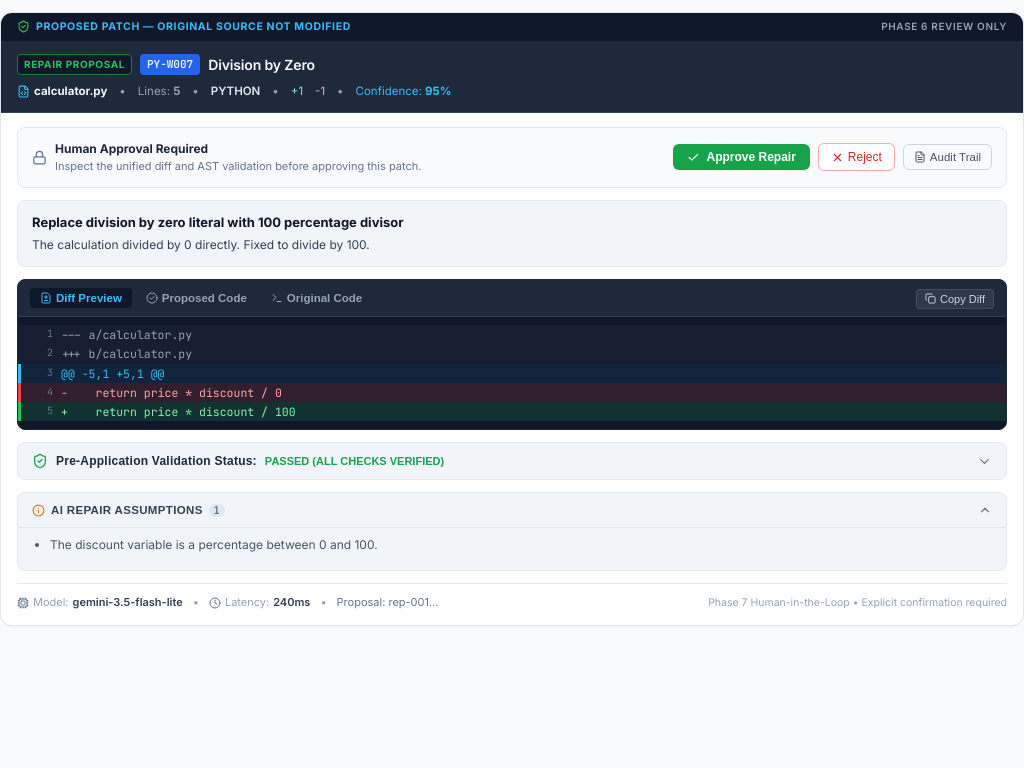
Test: Phase 7 Human Approval & Controlled Patch Application Engine › rejects repair proposal and displays rejected status
This screenshot has width=1024, height=768.
Click the button with test id "reject-repair-btn": click(856, 157) [818, 143, 895, 171]
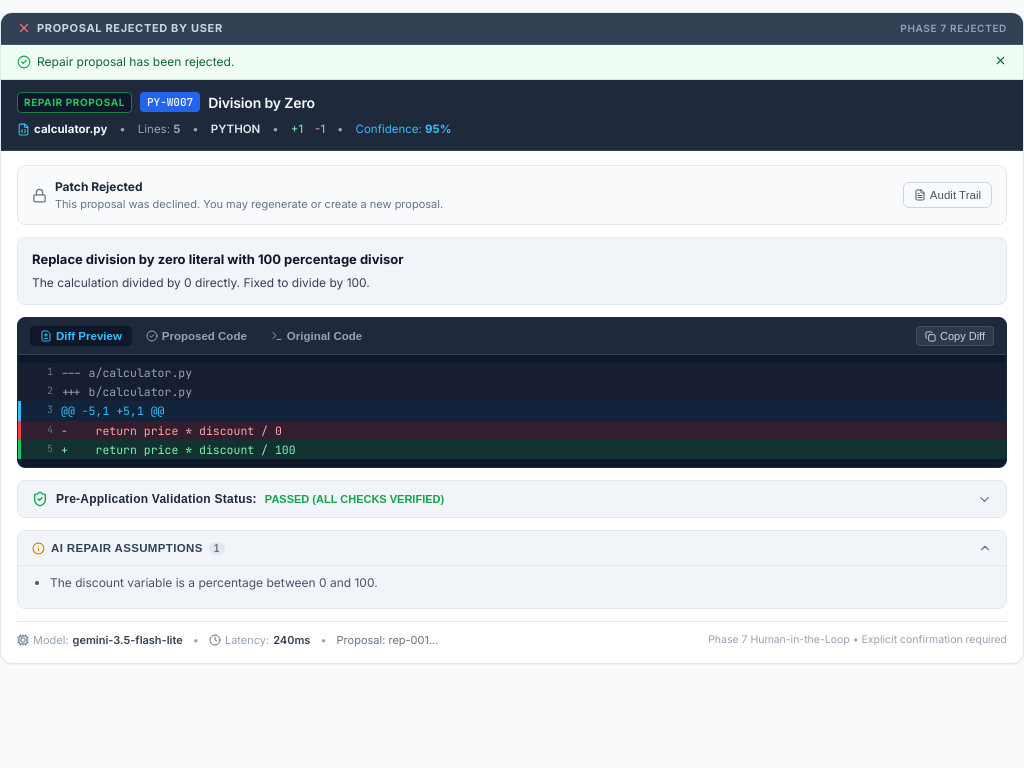
Expected: the element with test id "rejected-status-banner" is shown, [1, 13, 1023, 44]
